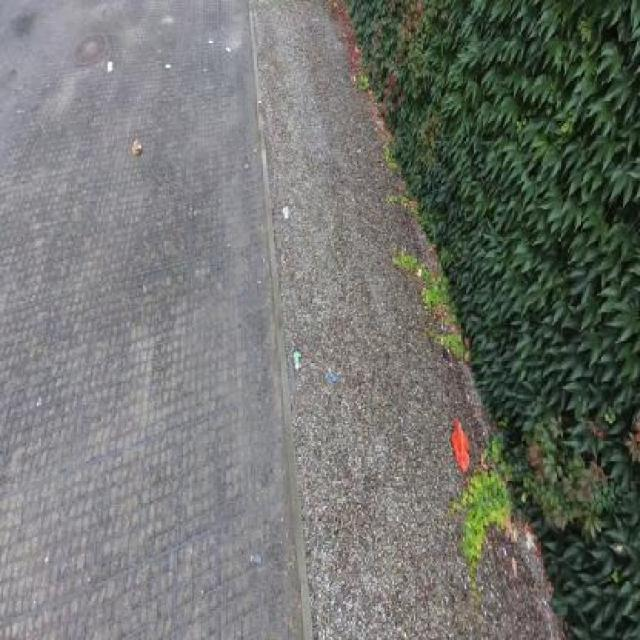Garbage: (451, 415, 470, 474), (131, 139, 143, 155), (293, 349, 299, 369), (282, 205, 289, 220), (106, 60, 113, 72), (332, 376, 338, 383), (165, 64, 171, 70), (208, 39, 214, 45), (258, 100, 261, 111), (226, 47, 230, 53)
